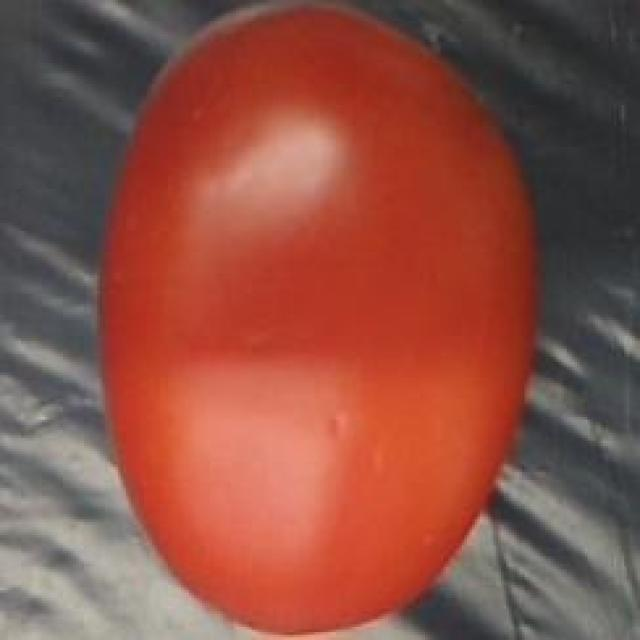ripe tomato: (87, 0, 556, 640)
